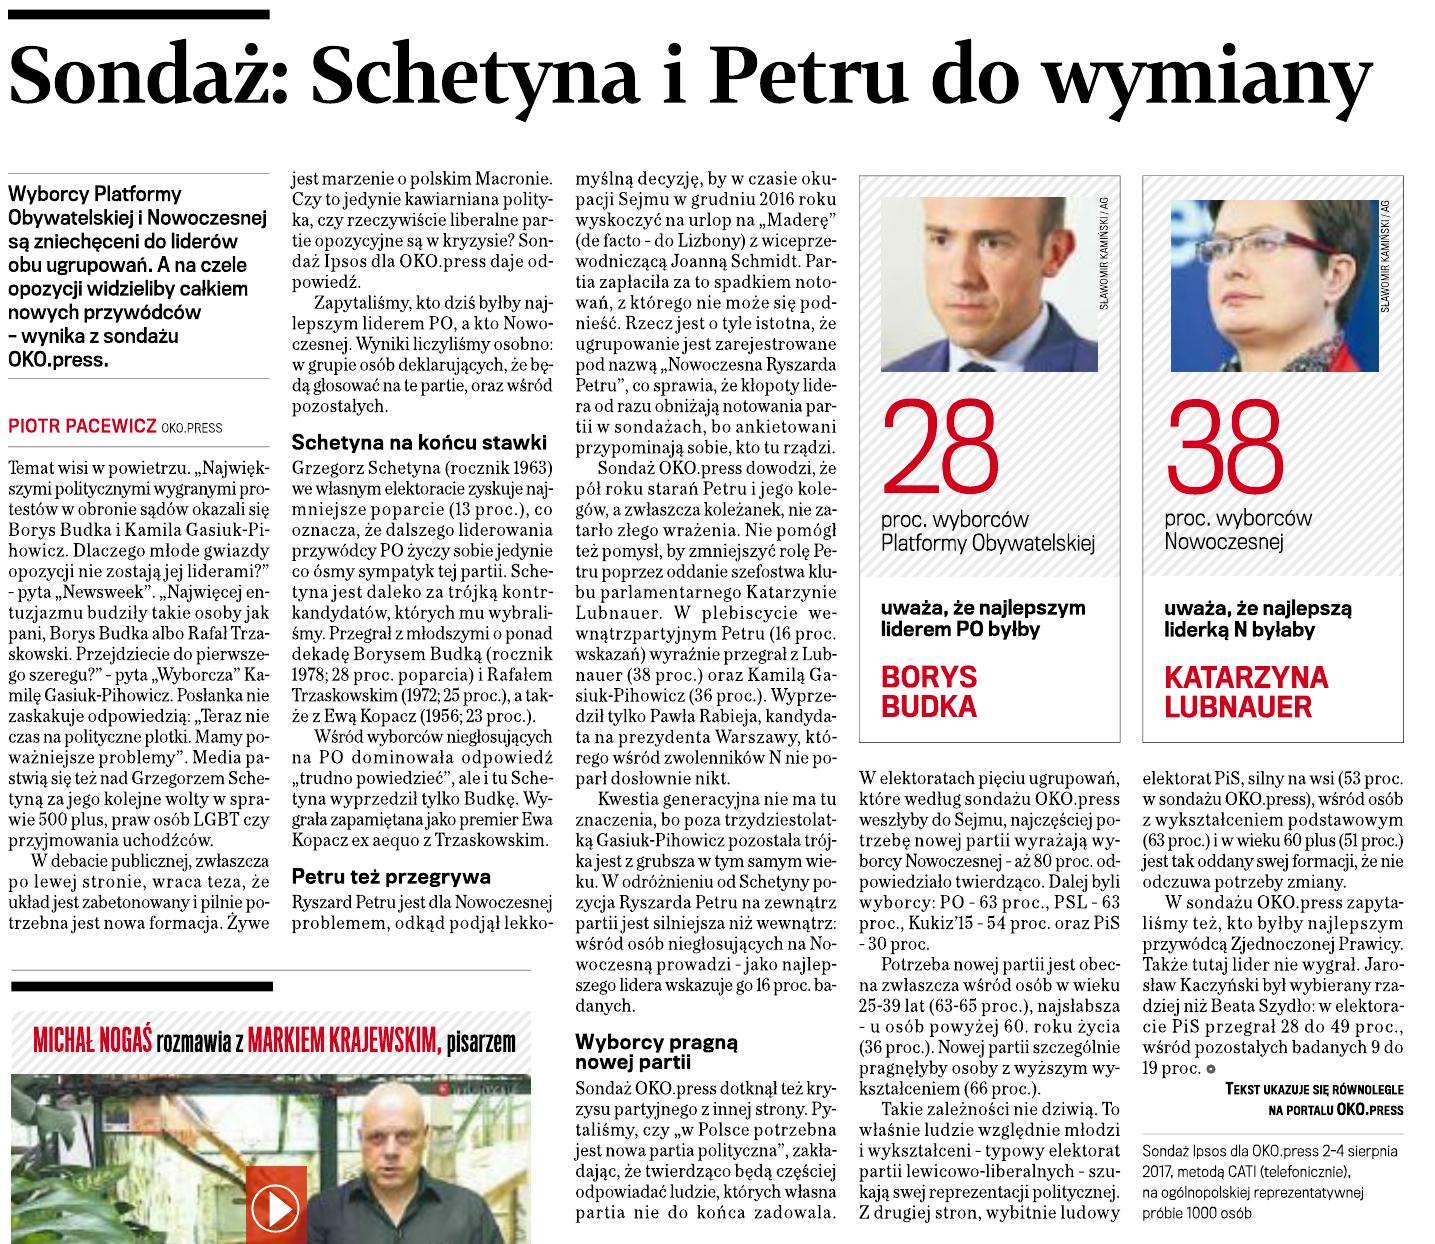author: (4, 407, 161, 442)
body: (571, 160, 844, 1238), (286, 164, 565, 946), (4, 452, 279, 944), (853, 759, 1125, 1233), (1137, 758, 1412, 1082)
image: (1153, 182, 1398, 382), (869, 186, 1113, 380)
lead: (4, 175, 277, 374)
title: (5, 23, 1389, 127)
